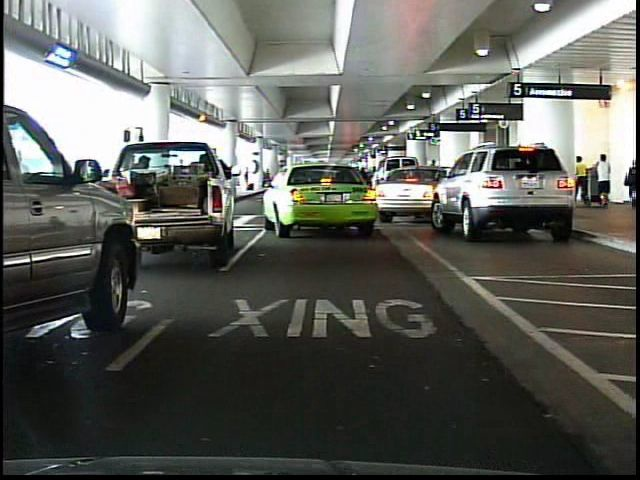person: (595, 152, 613, 208), (577, 150, 592, 207), (622, 159, 636, 210)
